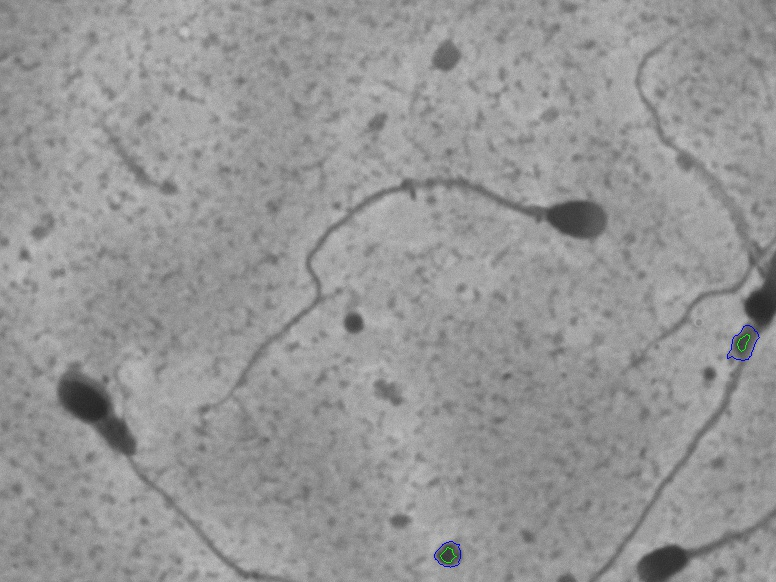Abnormal: (26, 325, 209, 534)
Normal: (188, 109, 648, 407)
